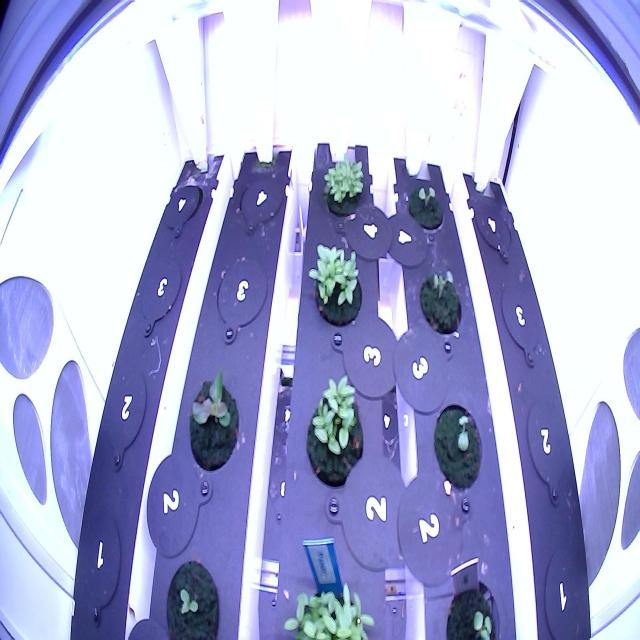empty_pod: (74, 498, 125, 625), (209, 252, 271, 352), (520, 391, 572, 508), (101, 360, 150, 479), (541, 536, 593, 639), (136, 246, 187, 342), (496, 272, 545, 369), (236, 165, 284, 244), (472, 190, 516, 266), (160, 175, 204, 242)
germination: (273, 552, 377, 639), (298, 372, 368, 492), (306, 238, 368, 332), (160, 549, 223, 639), (431, 396, 484, 493), (440, 566, 503, 640), (416, 264, 466, 344), (318, 145, 368, 225), (404, 178, 448, 236)
young: (185, 362, 241, 476)
